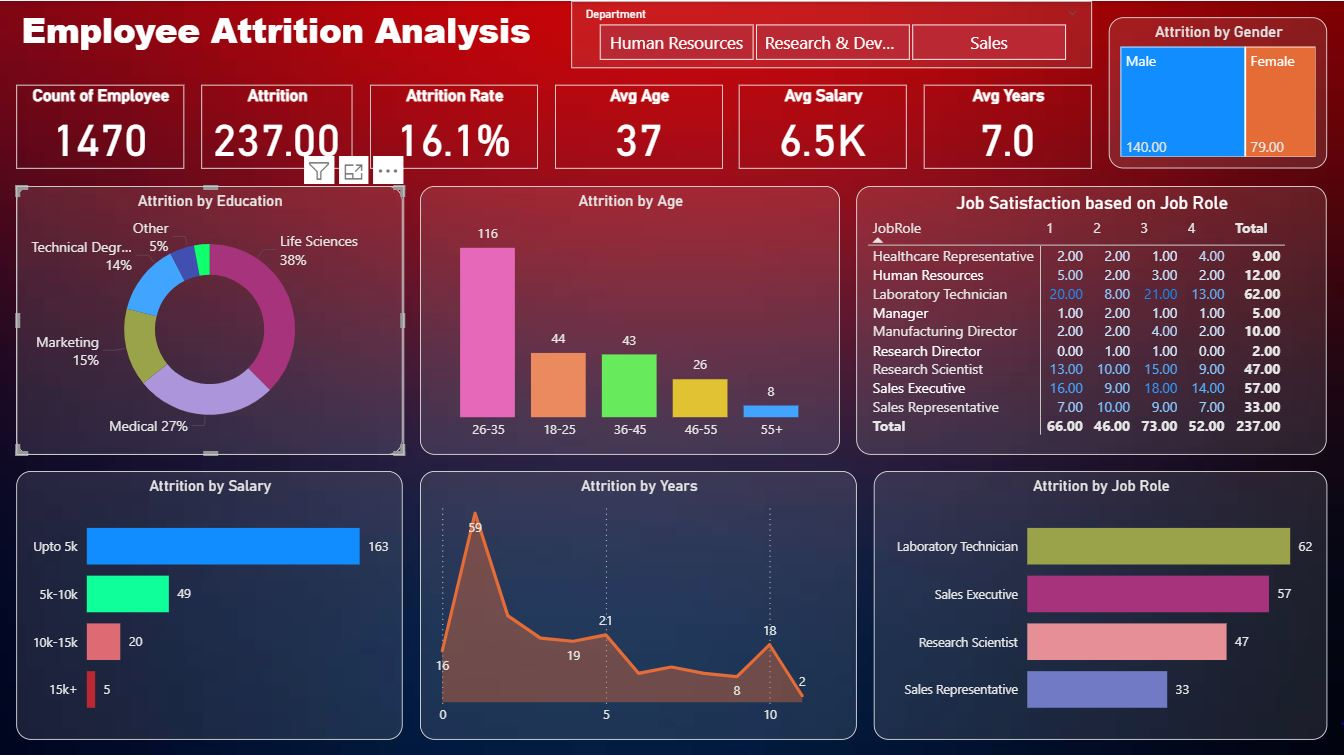

The page's visual inventory and layout, read from the dashboard file:
{"tool":"powerbi","page":{"name":"Page 1","canvas":[1280,720],"ordinal":0},"visuals":[{"type":"card","title":"Count of Employee","fields":{"Values":["CountNonNull(HR_Analytics.EmpID)"]},"box":[16,80,160,80],"z":0},{"type":"card","title":"Attrition","fields":{"Values":["select","Sum(HR_Analytics.AttritionCount)"]},"box":[192,80,144,80],"z":1000},{"type":"card","title":"Attrition Rate","fields":{"Values":["HR_Analytics.AttritionRate"]},"box":[352,80,160,80],"z":2000},{"type":"card","title":"Avg Age","fields":{"Values":["Avg(HR_Analytics.Age)"]},"box":[528,80,160,80],"z":3000},{"type":"card","title":"Avg Salary","fields":{"Values":["Avg(HR_Analytics.MonthlyIncome)"]},"box":[704,80,160,80],"z":5000},{"type":"card","title":"Avg Years","fields":{"Values":["Avg(HR_Analytics.YearsAtCompany)"]},"box":[880,80,160,80],"z":6000},{"type":"donutChart","title":"Attrition by Education","fields":{"Category":["HR_Analytics.EducationField"],"Y":["Sum(HR_Analytics.AttritionCount)"]},"box":[16,176,368,256],"z":7000},{"type":"columnChart","title":"Attrition by Age","fields":{"Category":["HR_Analytics.AgeGroup"],"Y":["Sum(HR_Analytics.AttritionCount)"]},"box":[400,176,400,256],"z":8000},{"type":"pivotTable","title":"Job Satisfaction based on Job Role","fields":{"Rows":["HR_Analytics.JobRole"],"Columns":["HR_Analytics.JobSatisfaction"],"Values":["Sum(HR_Analytics.AttritionCount)"]},"box":[816,176,448,256],"z":9000},{"type":"barChart","title":"Attrition by Salary","fields":{"Category":["HR_Analytics.SalarySlab"],"Y":["Sum(HR_Analytics.AttritionCount)"]},"box":[16,448,368,256],"z":10000},{"type":"barChart","title":"Attrition by Job Role","fields":{"Category":["HR_Analytics.JobRole"],"Y":["Sum(HR_Analytics.AttritionCount)"]},"box":[832,448,432,256],"z":11000},{"type":"areaChart","title":"Attrition by Years","fields":{"Category":["HR_Analytics.YearsAtCompany"],"Y":["Sum(HR_Analytics.AttritionCount)"]},"box":[400,448,416,256],"z":12000},{"type":"treemap","title":"Attrition by Gender","fields":{"Group":["HR_Analytics.Gender"],"Values":["Sum(HR_Analytics.AttritionCount)"]},"box":[1056,16,208,144],"z":13000},{"type":"slicer","fields":{"Values":["HR_Analytics.Department"]},"box":[544,0,496,64],"z":14000},{"type":"textbox","box":[16,0,512,64],"z":15000}]}

Visuals, with their boxes in screenshot pixels (x1, y1, x2, y2), scaled from the page's 1280x720 canvas onto the 1344x755 screenshot:
"Count of Employee" card: x1=17 y1=84 x2=185 y2=168
"Attrition" card: x1=202 y1=84 x2=353 y2=168
"Attrition Rate" card: x1=370 y1=84 x2=538 y2=168
"Avg Age" card: x1=554 y1=84 x2=722 y2=168
"Avg Salary" card: x1=739 y1=84 x2=907 y2=168
"Avg Years" card: x1=924 y1=84 x2=1092 y2=168
"Attrition by Education" donutChart: x1=17 y1=185 x2=403 y2=453
"Attrition by Age" columnChart: x1=420 y1=185 x2=840 y2=453
"Job Satisfaction based on Job Role" pivotTable: x1=857 y1=185 x2=1327 y2=453
"Attrition by Salary" barChart: x1=17 y1=470 x2=403 y2=738
"Attrition by Job Role" barChart: x1=874 y1=470 x2=1327 y2=738
"Attrition by Years" areaChart: x1=420 y1=470 x2=857 y2=738
"Attrition by Gender" treemap: x1=1109 y1=17 x2=1327 y2=168
slicer - HR_Analytics.Department: x1=571 y1=0 x2=1092 y2=67
textbox: x1=17 y1=0 x2=554 y2=67
